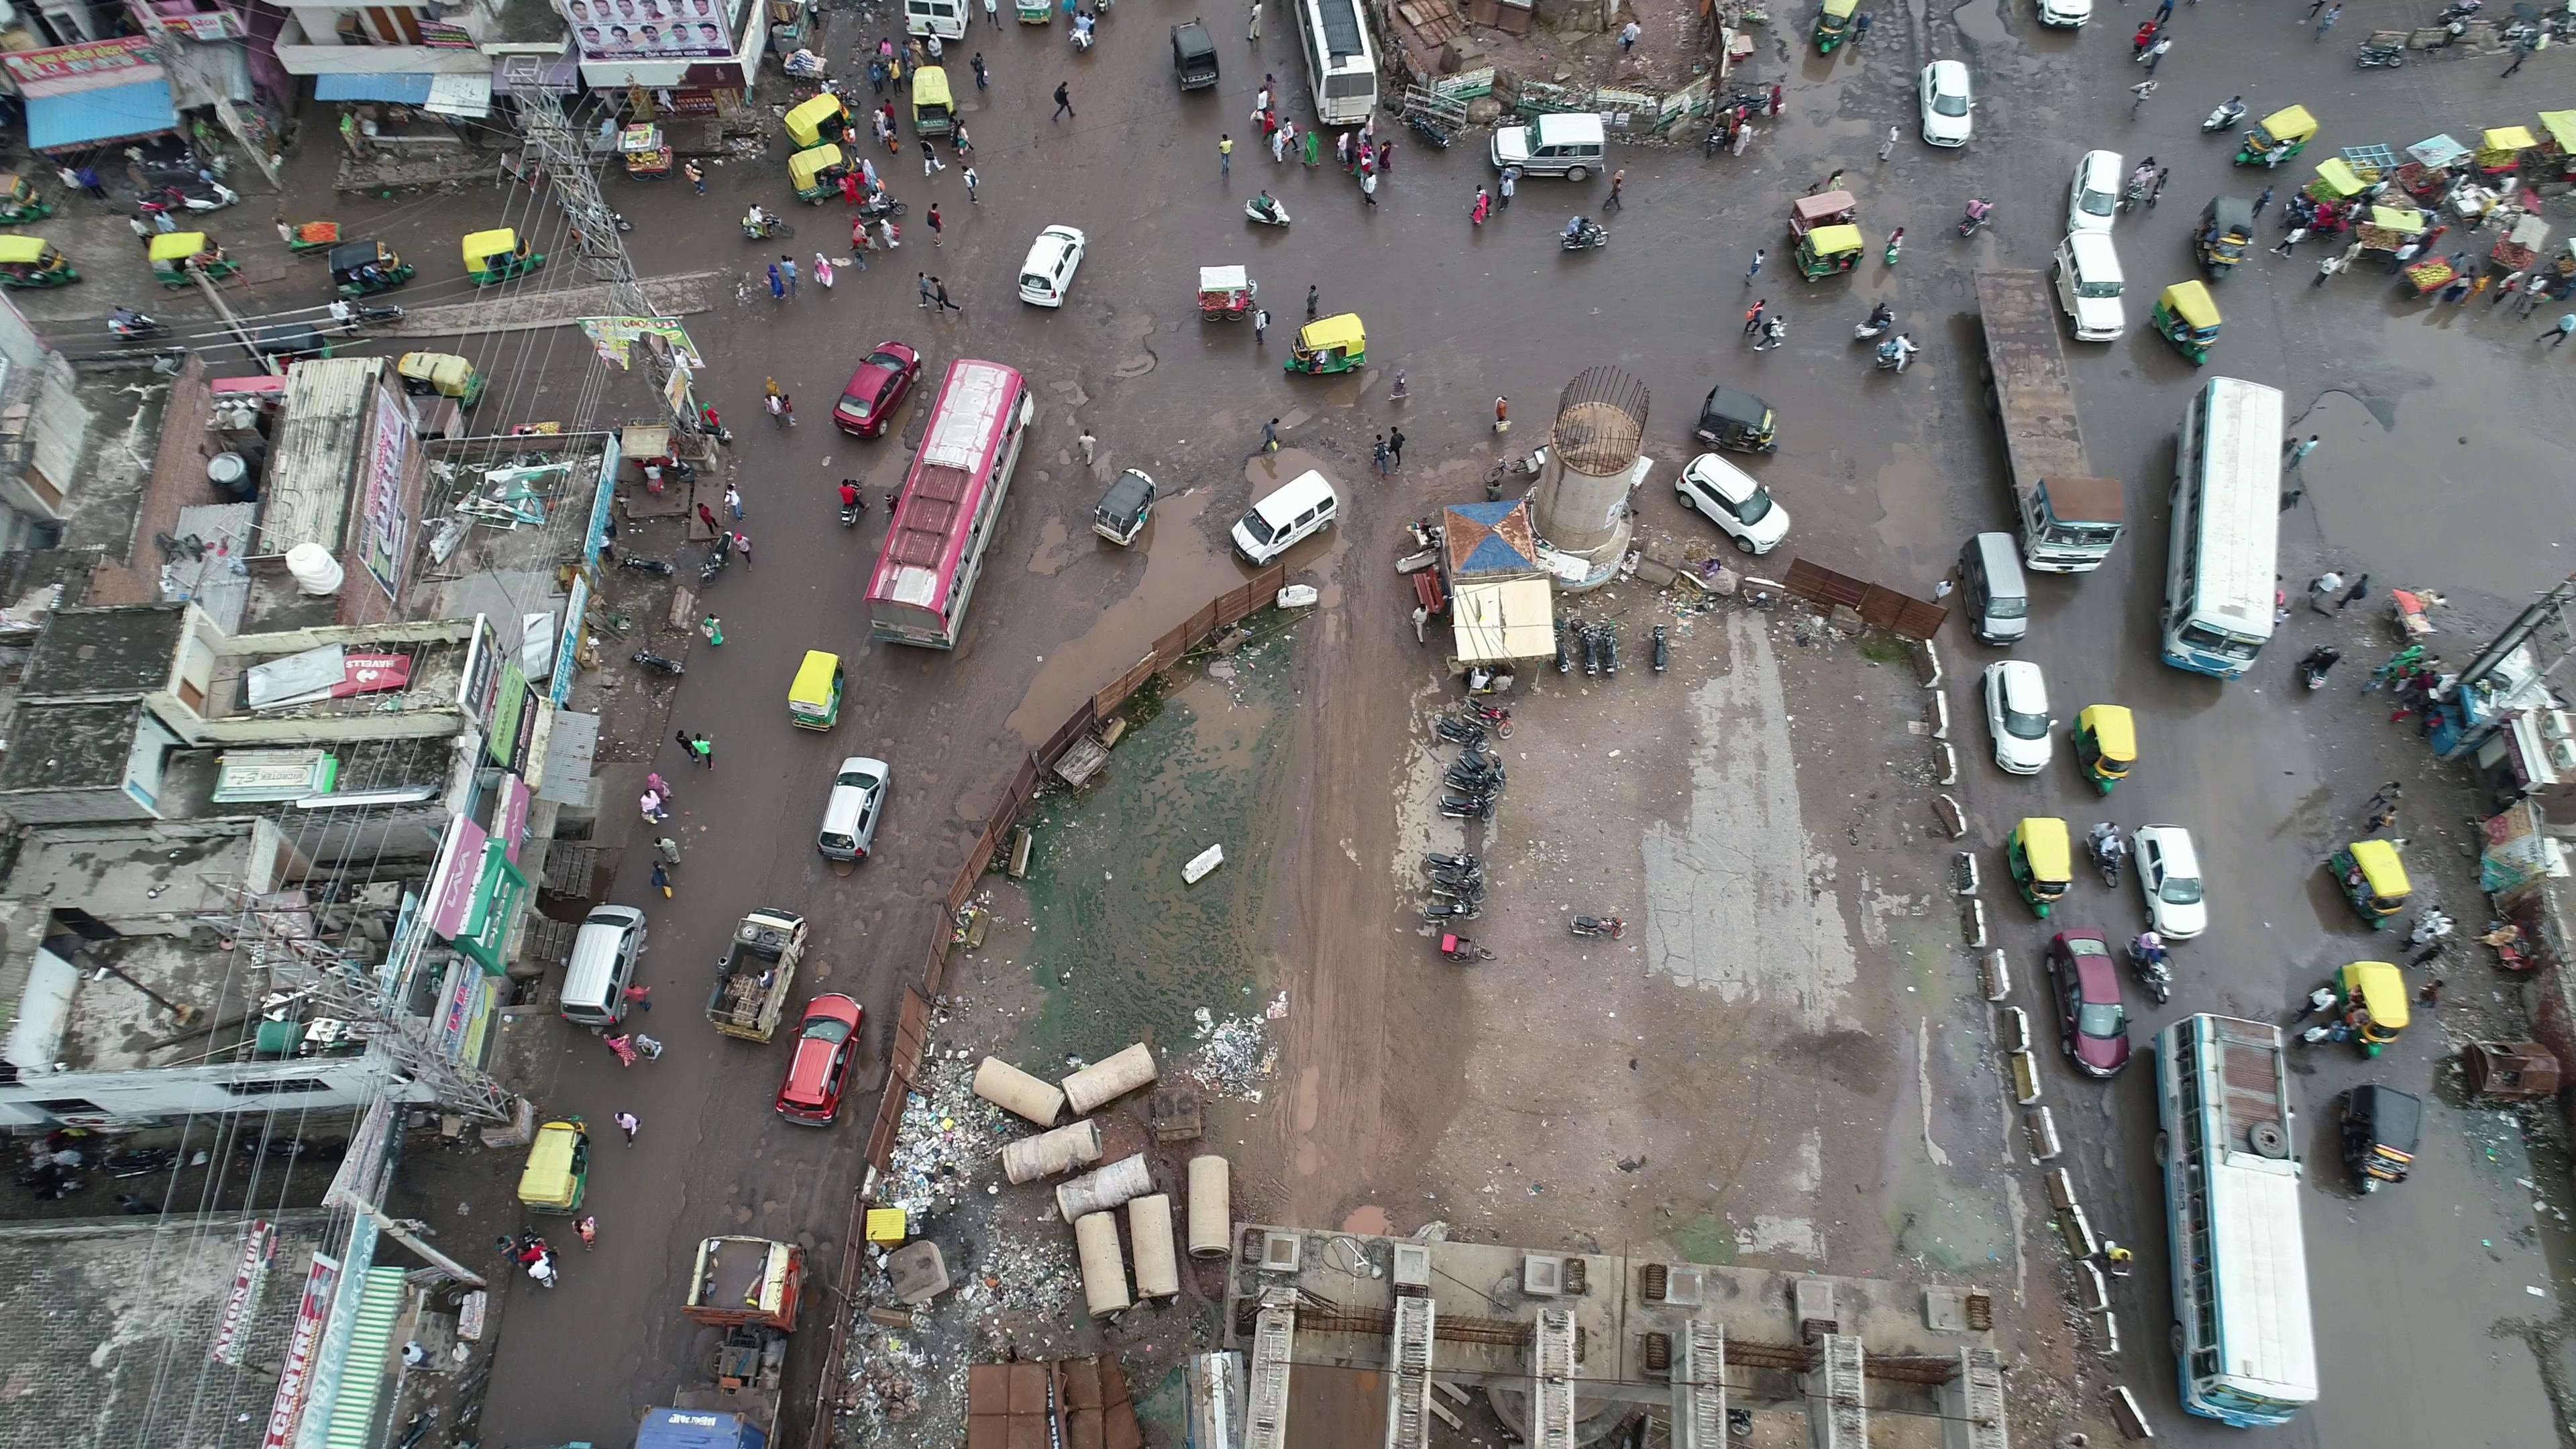Potholes: (840, 860, 939, 936), (853, 695, 957, 752), (1870, 2, 1916, 124), (1031, 435, 1077, 492), (909, 384, 932, 423)
Waterlogging: (1090, 529, 1215, 649)
